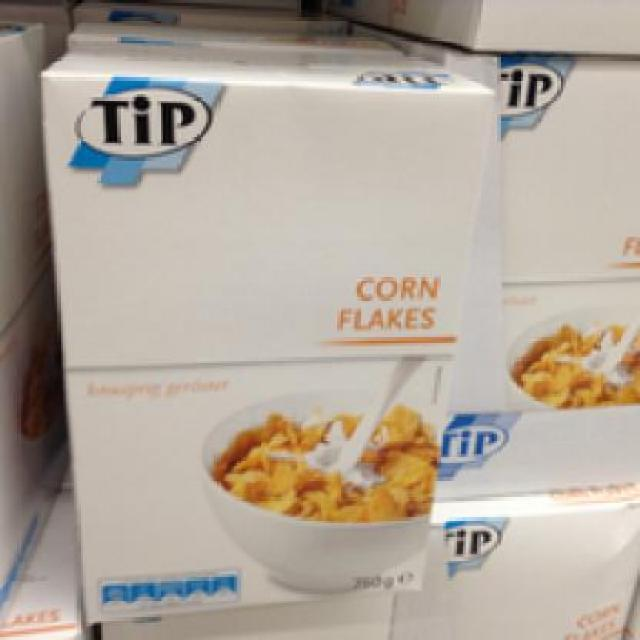Cereal: (31, 40, 492, 626)
